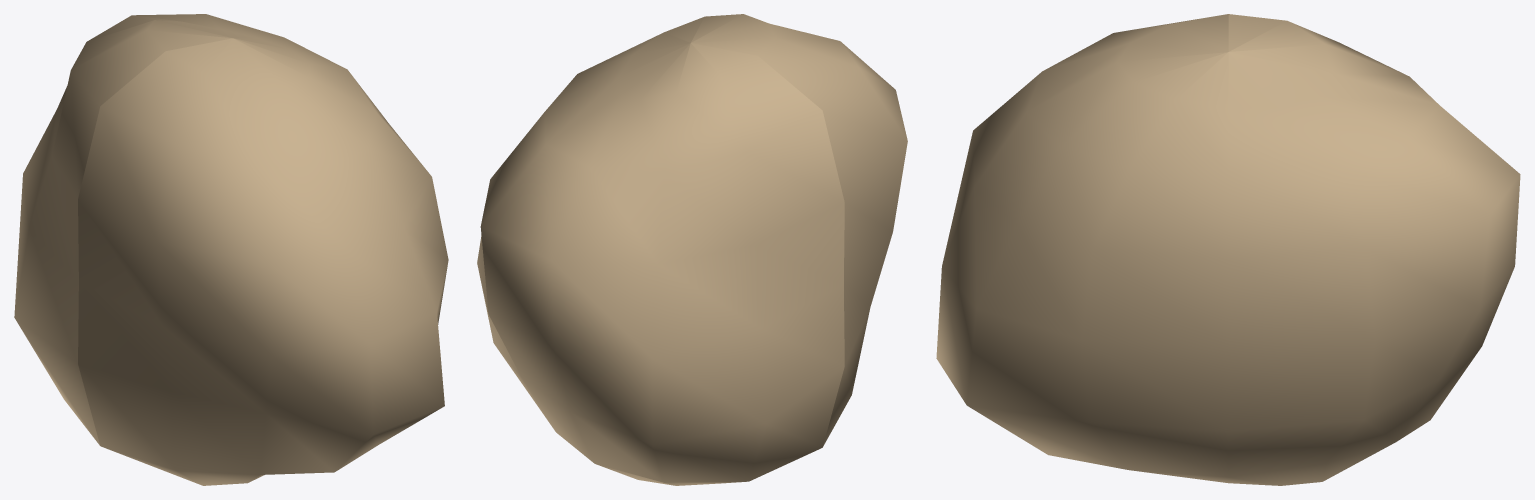
Rendered from right_intermediate_cuneiform.glb.
3 views of the same model, side by side, from view 1: azimuth 30°, elevation 25°; view 2: azimuth 150°, elevation 25°; view 3: azimuth 270°, elevation 25° (orthographic). The views are drawn at different scales.
Visible parts, largest first — view 1: right_intermediate_cuneiform:body; view 2: right_intermediate_cuneiform:body; view 3: right_intermediate_cuneiform:body.
Part boxes in pixels (x1,y1,x2,y2): right_intermediate_cuneiform:body: (14,14,448,485); right_intermediate_cuneiform:body: (477,14,907,485); right_intermediate_cuneiform:body: (936,14,1520,485).
Bounding box in the file's own units: 0.0264 × 0.0336 × 0.0408.
